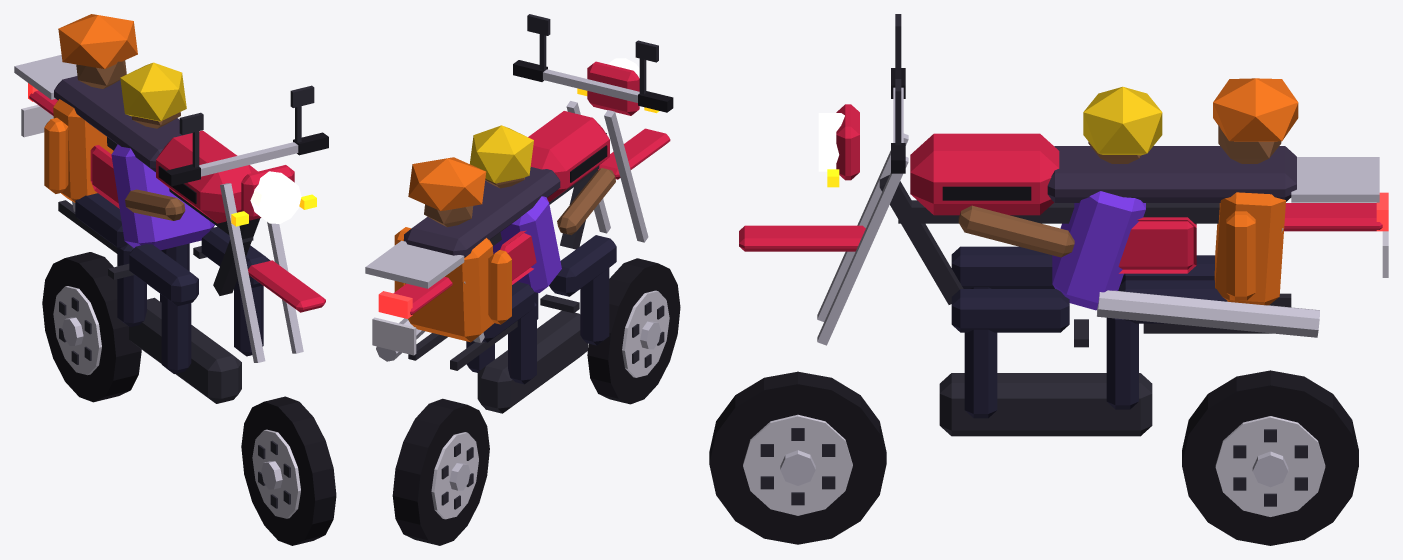
The model's file is okada-bike.glb.
The picture shows the model from 3 angles, left to right: view 1: azimuth 30°, elevation 25°; view 2: azimuth 150°, elevation 25°; view 3: azimuth 270°, elevation 25°; orthographic projection. The views are drawn at different scales.
Visible parts, largest first — view 1: body, driver, pax_0, wheel_0, wheel_1; view 2: body, pax_0, driver, wheel_1, wheel_0; view 3: body, driver, wheel_1, wheel_0, pax_0.
Part boxes in pixels (<box>): body: <box>14,54,328,403</box>; driver: <box>111,62,270,373</box>; pax_0: <box>44,14,189,327</box>; wheel_0: <box>241,396,336,545</box>; wheel_1: <box>42,252,141,402</box>; body: <box>365,14,673,413</box>; pax_0: <box>394,157,536,384</box>; driver: <box>470,125,616,345</box>; wheel_1: <box>392,398,489,545</box>; wheel_0: <box>587,258,680,404</box>; body: <box>739,14,1388,436</box>; driver: <box>951,86,1162,418</box>; wheel_1: <box>1182,370,1358,545</box>; wheel_0: <box>709,371,886,544</box>; pax_0: <box>1106,78,1298,409</box>.
Bounding box in the file's own units: 0.74 × 1.81 × 2.3.
